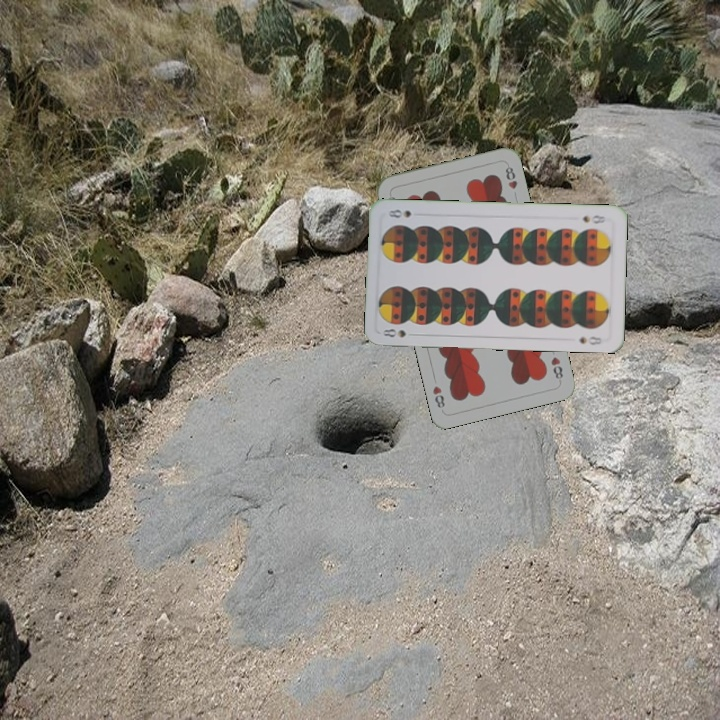H8: (547, 353, 565, 384)
S8: (578, 211, 610, 226), (379, 325, 408, 340)
